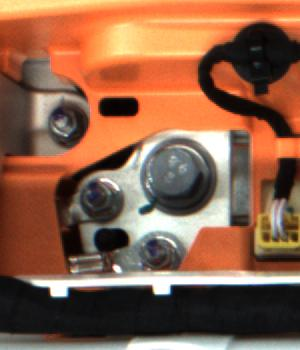nut_b: (143, 136, 215, 213)
screw_s: (43, 102, 82, 143), (81, 175, 117, 219), (135, 236, 179, 271)
